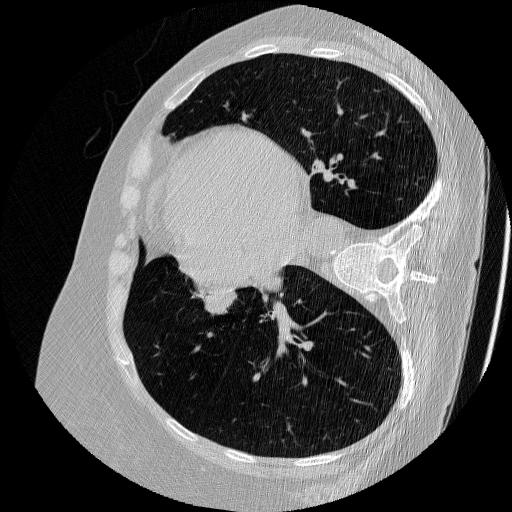nodule: (202, 283, 240, 321)
